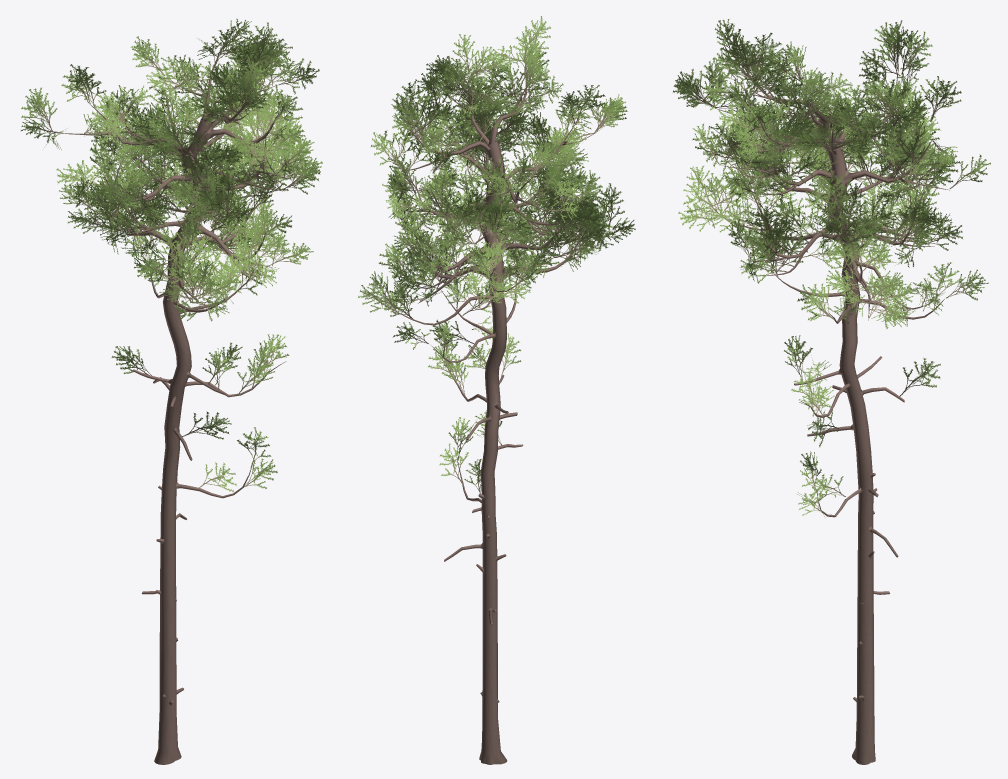
The model's file is tree_Pine_B_XL1_LOD0.fbx.
The picture shows the model from 3 angles, left to right: view 1: azimuth 30°, elevation 25°; view 2: azimuth 150°, elevation 25°; view 3: azimuth 270°, elevation 25°; orthographic projection. The views are drawn at different scales.
Visible parts, largest first — view 1: Pine_B_XL1_LOD0; view 2: Pine_B_XL1_LOD0; view 3: Pine_B_XL1_LOD0.
Part boxes in pixels (box(x1,y1,x2,y2)): Pine_B_XL1_LOD0: box(20, 18, 322, 764); Pine_B_XL1_LOD0: box(358, 16, 635, 764); Pine_B_XL1_LOD0: box(673, 19, 990, 764).
Size of the model in its own units: 1246 by 3379 by 1328.
